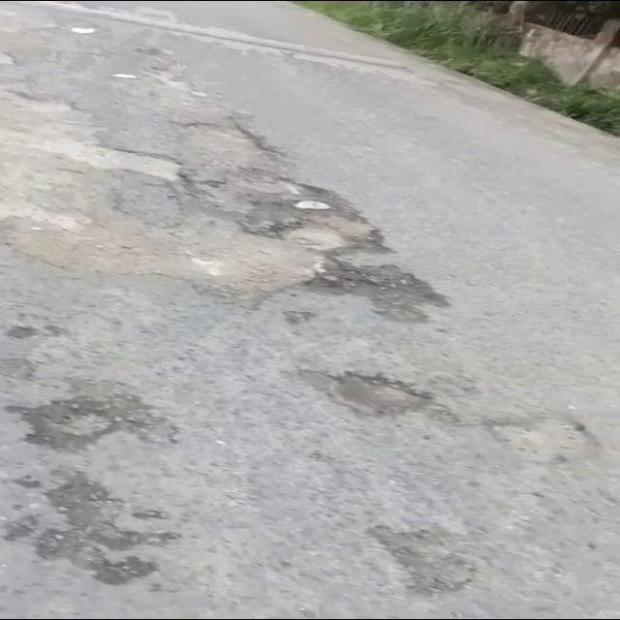lubang: (0, 91, 447, 321), (0, 475, 177, 612), (5, 381, 177, 450), (371, 526, 475, 592), (298, 371, 432, 416), (486, 415, 598, 462)
